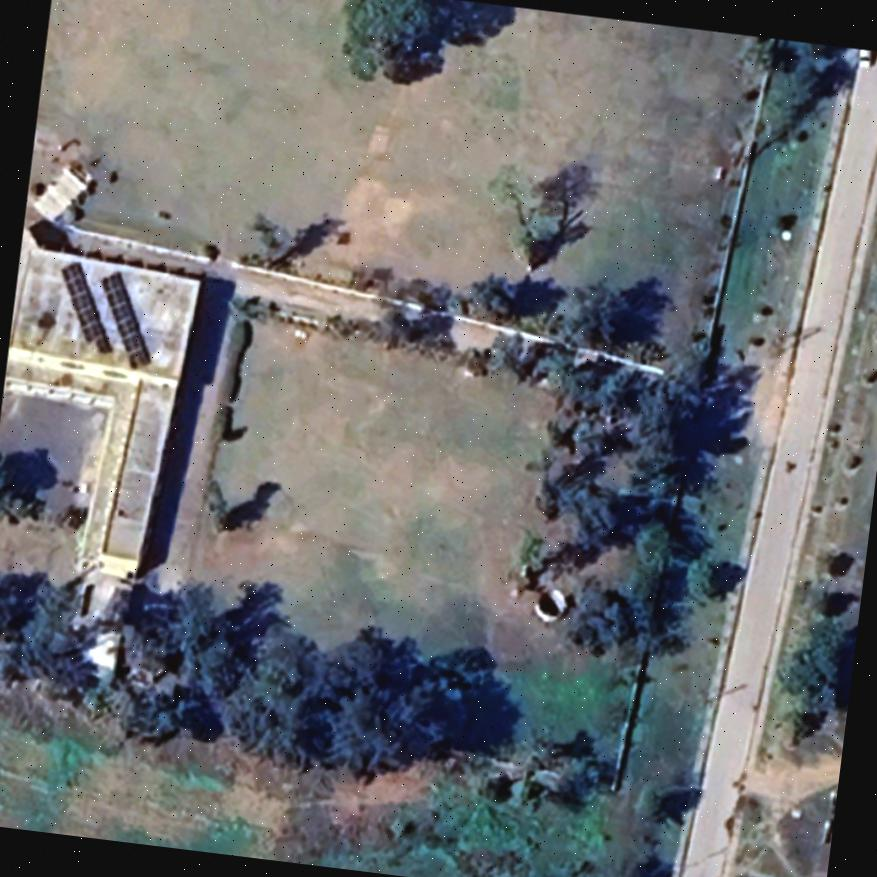Solarpanel: (99, 271, 156, 375), (58, 257, 115, 355)
